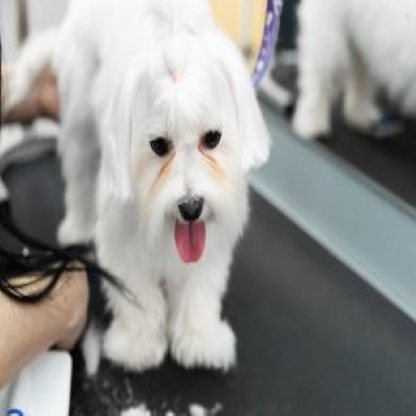maltese: (51, 2, 270, 366)
